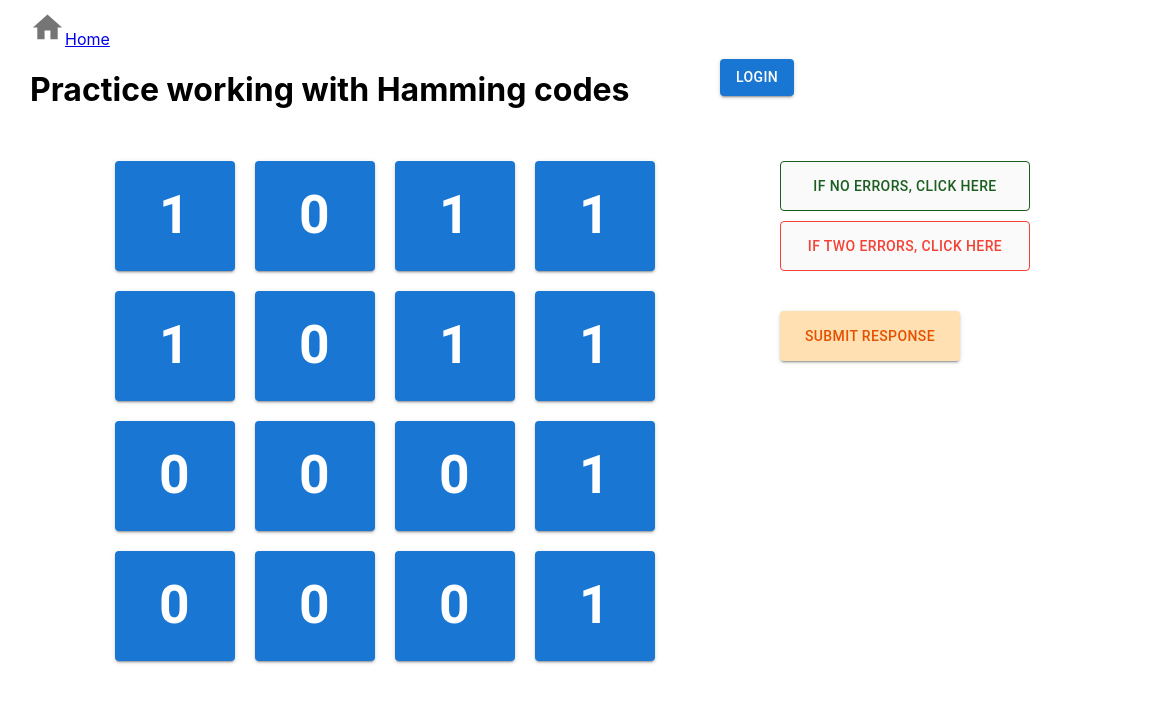
it: page is rendered › incorrect no errors displays correct response
Click the button "If no errors, click here": (905, 186) [780,161,1030,211]
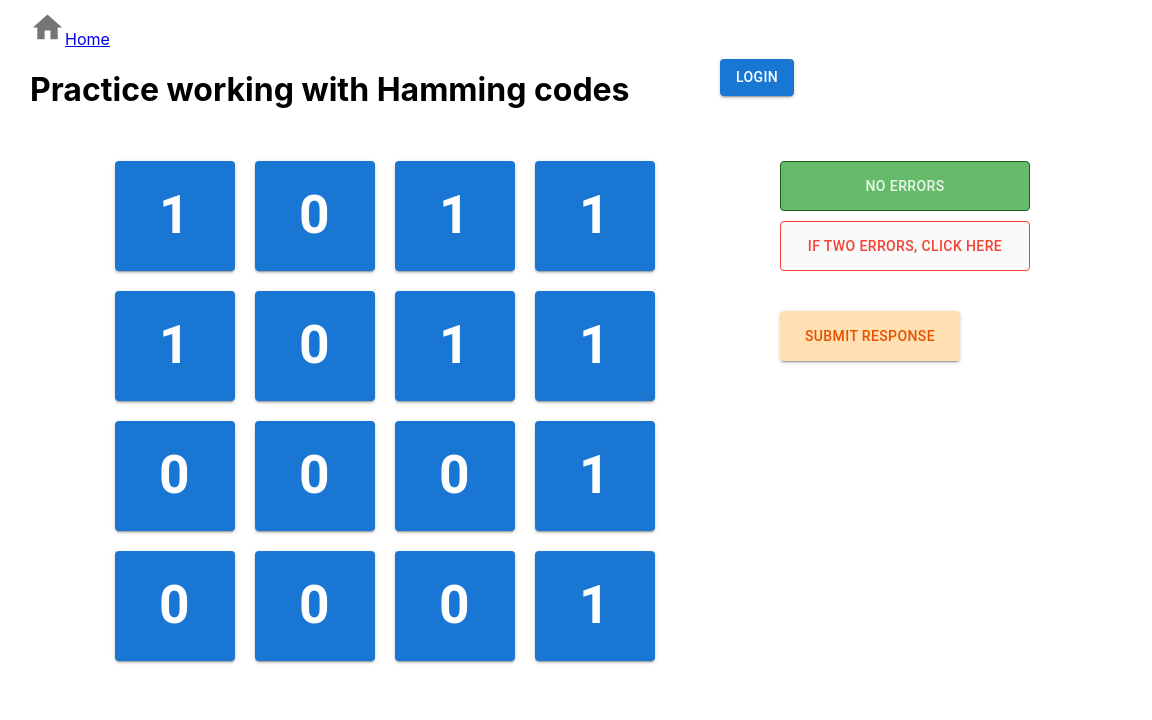
Click the button "Submit Response": (870, 336) [780,311,960,361]
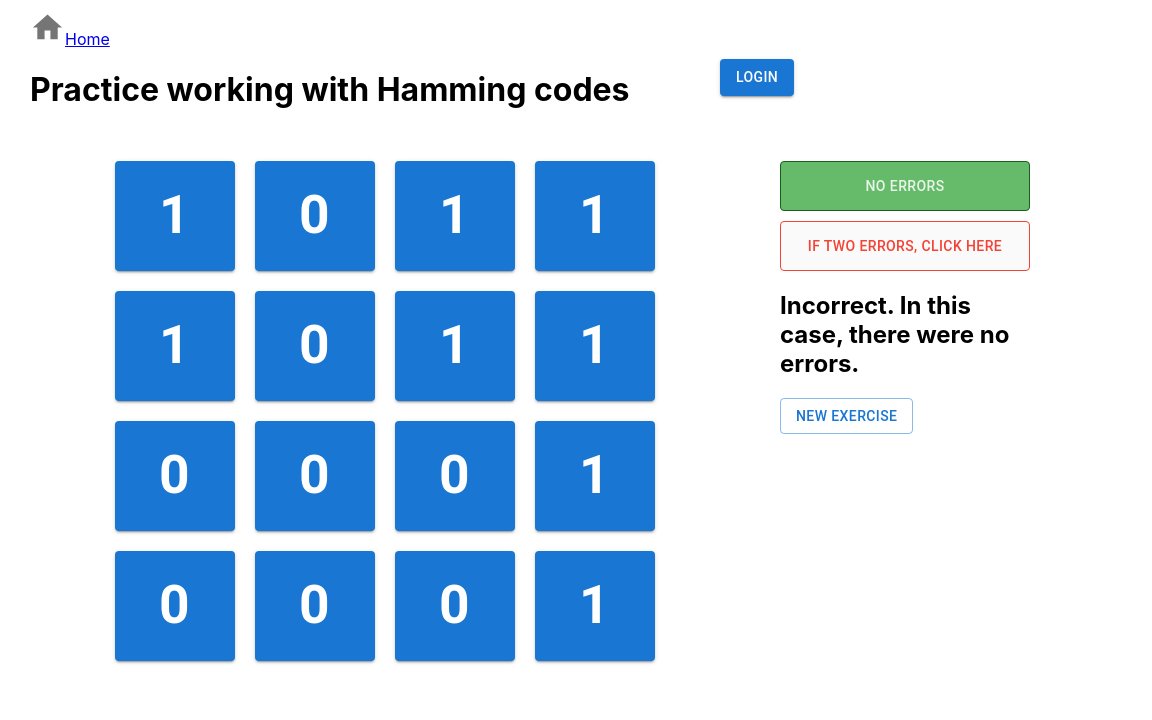
Expected: the heading "Incorrect. In this case, there were no errors." is shown, [780,291,1030,378]
